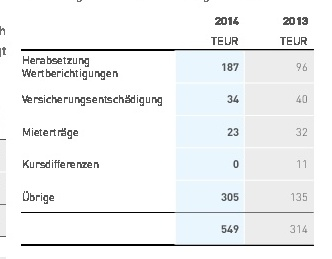table: (0, 0, 332, 259)
